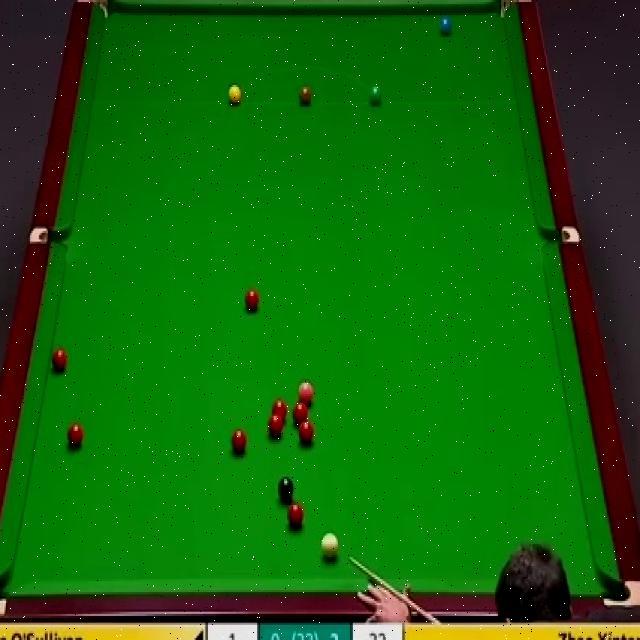black-ball: (276, 473, 294, 504)
blue-ball: (438, 11, 454, 38)
brown-ball: (298, 86, 313, 108)
green-ball: (368, 85, 383, 108)
pink-ball: (294, 379, 314, 406)
red-ball: (66, 422, 85, 452), (286, 503, 306, 529), (266, 414, 284, 440), (50, 347, 67, 374), (244, 287, 261, 314), (231, 428, 247, 456), (270, 399, 288, 422), (298, 420, 314, 445), (292, 403, 308, 424)
white-ball: (321, 530, 339, 561)
yellow-ball: (228, 84, 242, 107)
